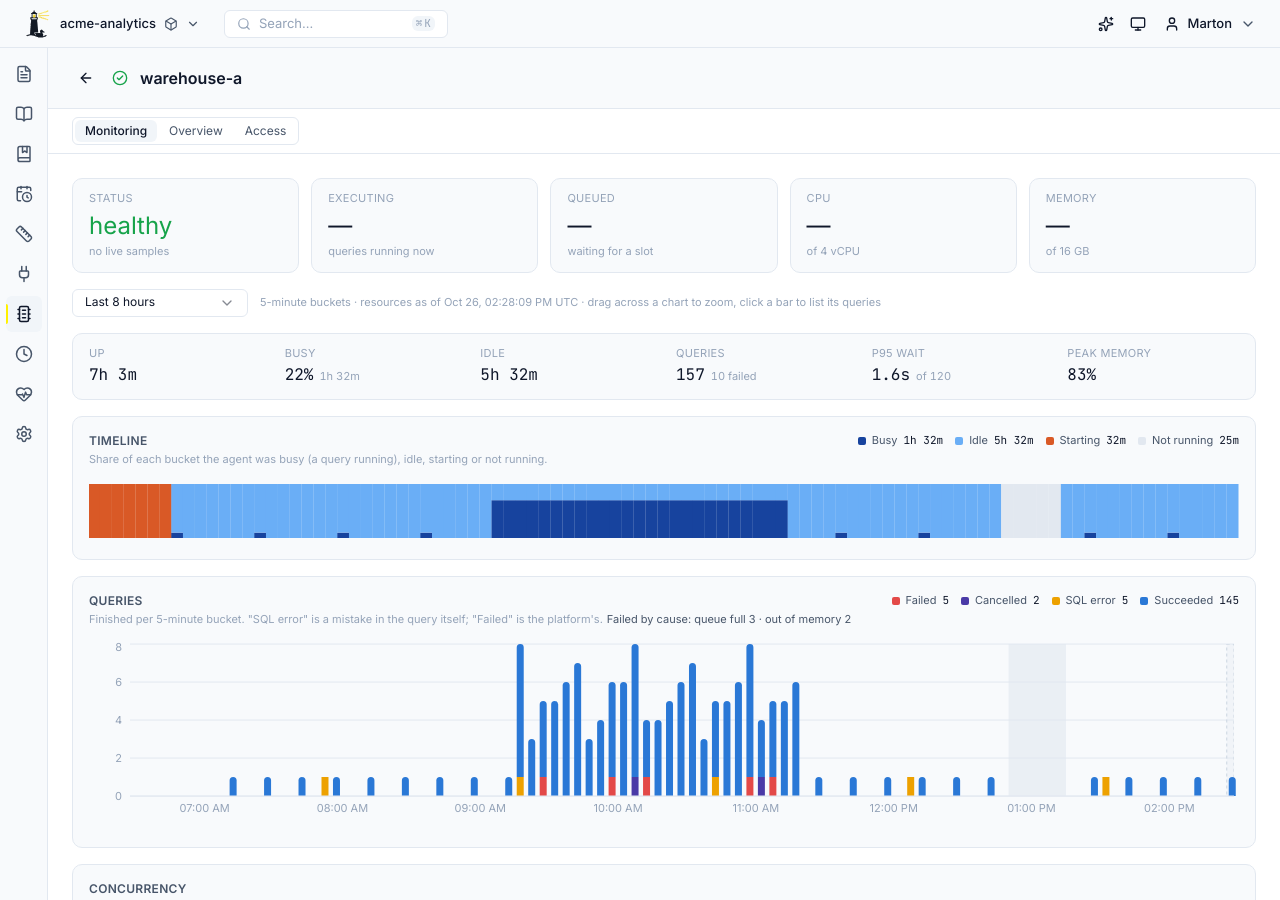
Test case: AgentDetailPage › refetches with the chosen range and rebuckets
Expected: the element with test id "chart-timeline" is shown, [89,479,1239,543]
Click the dropdown named "time range" at (160, 303), box [72,289,248,317]
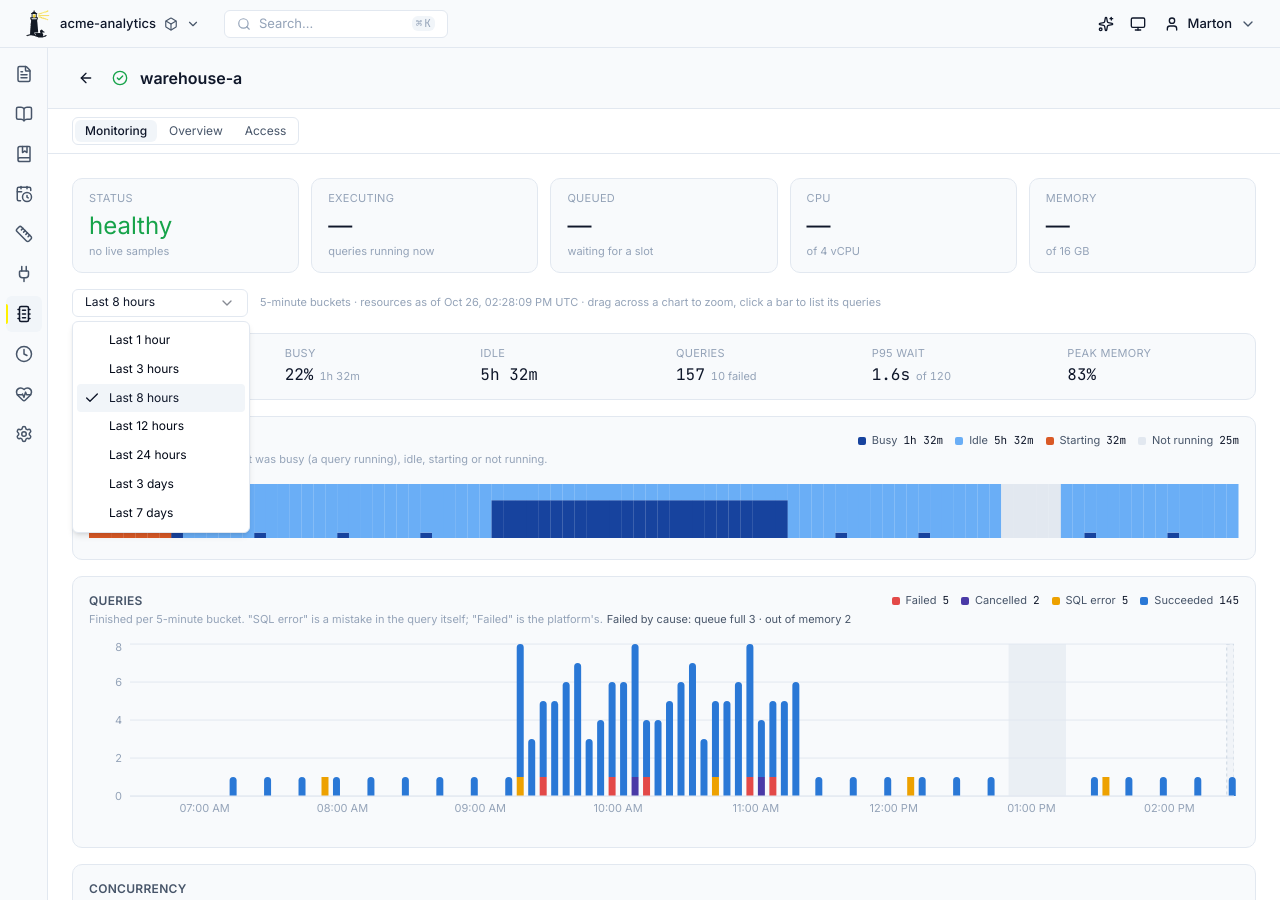
Click the option "Last 7 days" at (141, 512), box [109,505,173,520]
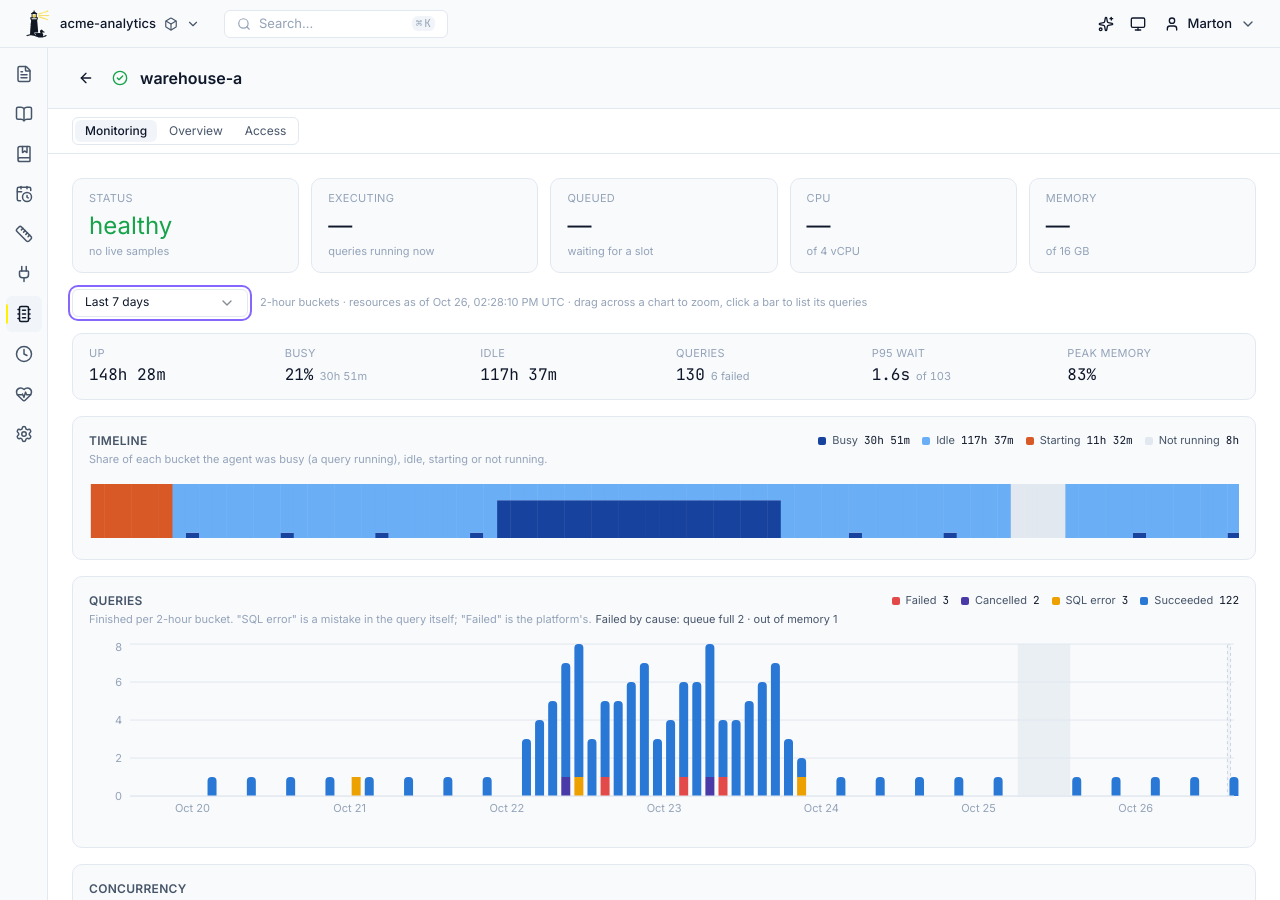
Expected: the text "2-hour buckets" is shown, [260,295,340,309]
